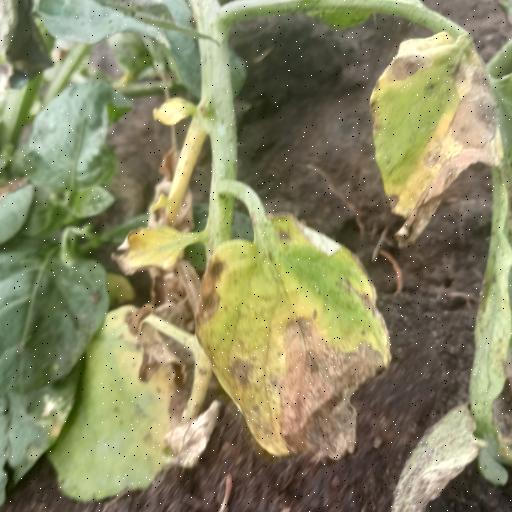Tomato_Brown_Spots: (191, 200, 396, 464)
